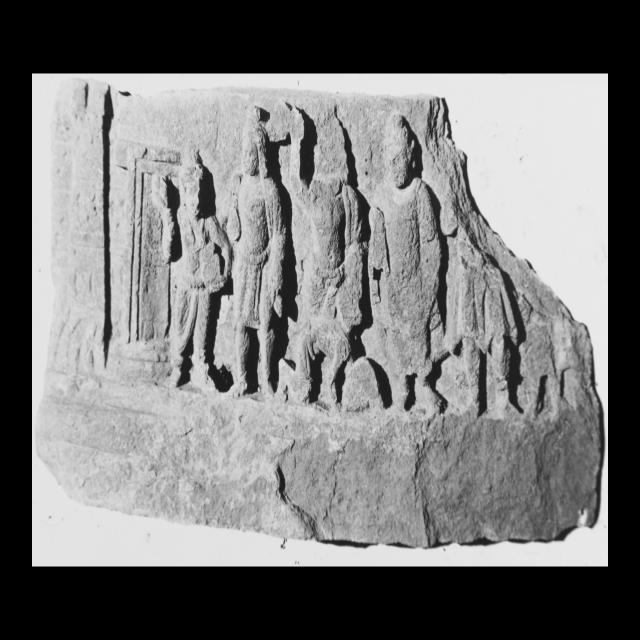buddha-standing: (226, 109, 286, 396)
